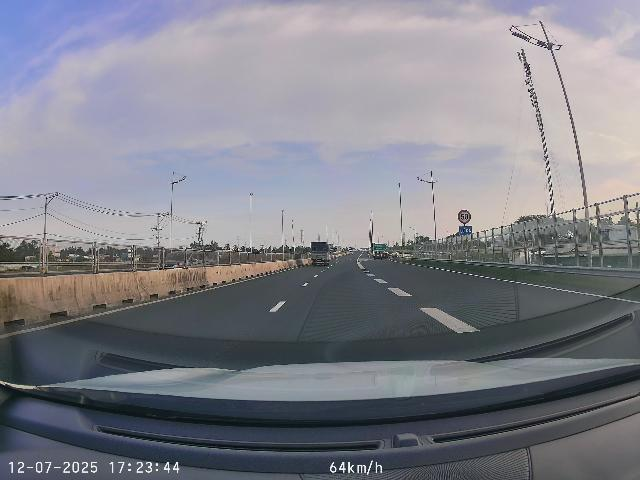127-toc-do-toi-da-50: (458, 209, 471, 224)
